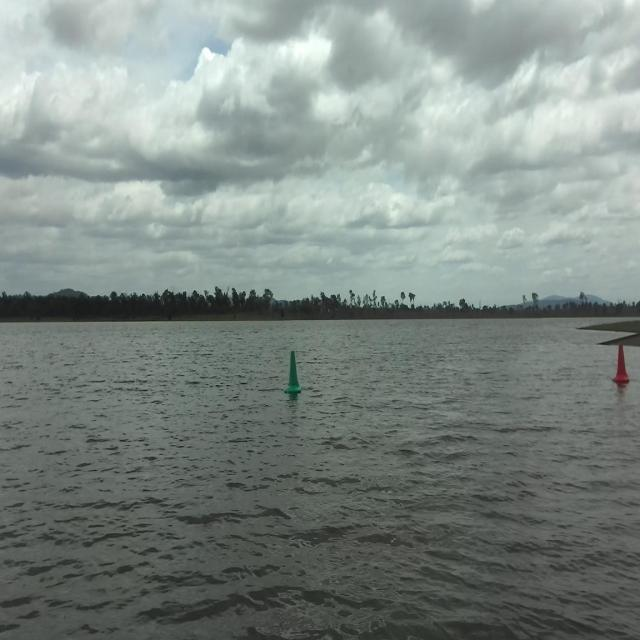Green_Buoy: (275, 350, 308, 401)
Red_Buoy: (607, 340, 640, 390)
